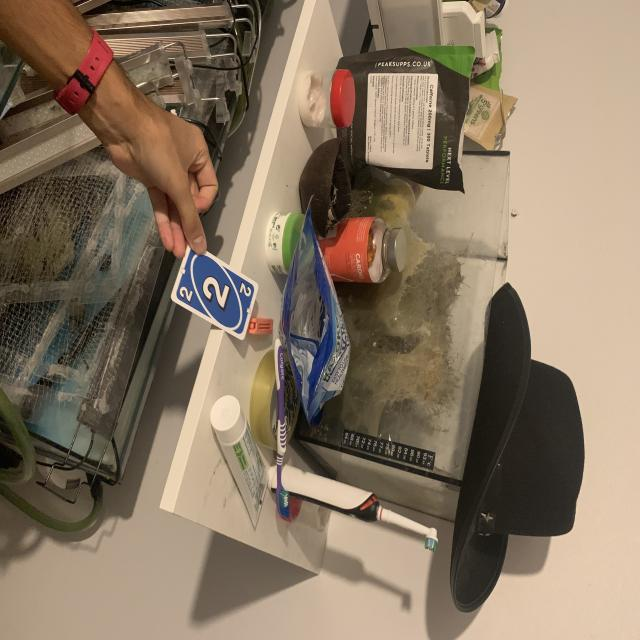lblue-2: (177, 281, 198, 307)
